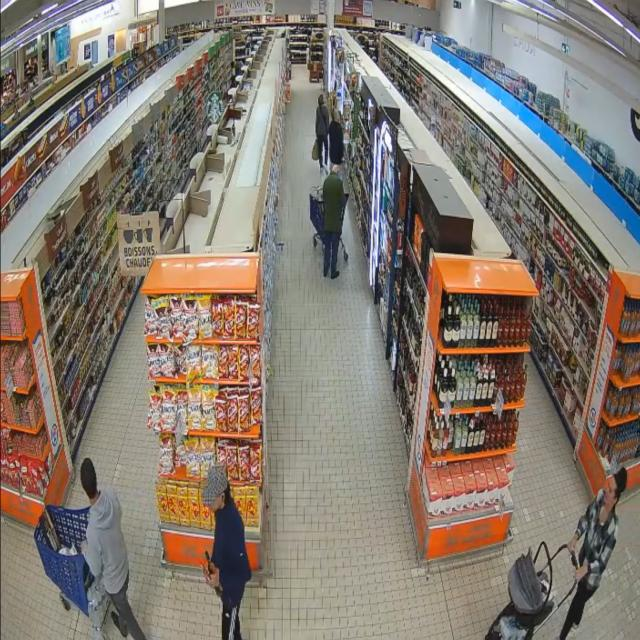article: (206, 552, 216, 575), (200, 562, 211, 580)
bags: (312, 140, 319, 161)
hands: (206, 568, 219, 587), (575, 563, 588, 581), (568, 535, 577, 552), (81, 540, 87, 554)
person: (81, 459, 146, 639), (560, 468, 626, 639), (203, 465, 251, 639), (323, 165, 344, 279), (316, 95, 330, 170), (329, 110, 344, 168)
